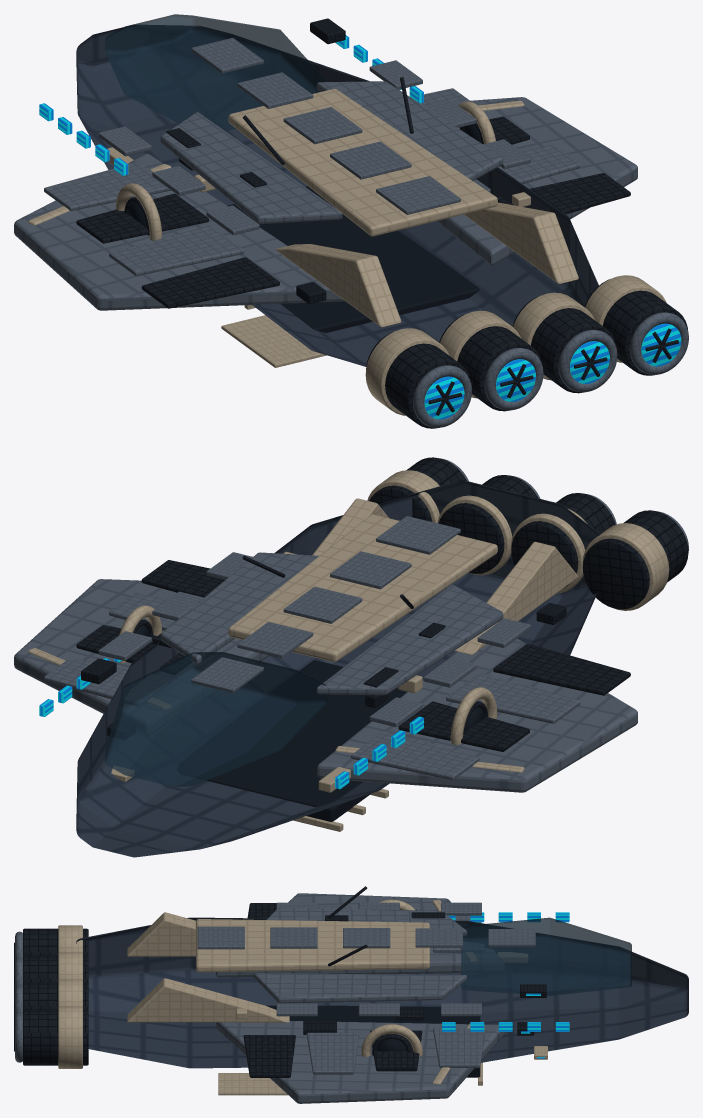
Rendered from aur-wayfarer-shuttle.glb.
3 views of the same model, one above another, from view 1: azimuth 30°, elevation 25°; view 2: azimuth 150°, elevation 25°; view 3: azimuth 270°, elevation 25° (orthographic). The views are drawn at different scales.
Visible parts, largest first — view 1: Pressure_Hull, Cockpit_Canopy, Dorsal_Armor, Wing_L, Cargo_Bay, Shoulder_Armor_L, Wing_R, Shoulder_Armor_R, Tail_Fin_L, Tail_Fin_R, Wing_Service_Panel_L_01, Wing_Service_Panel_L_02 (+36 smaller); view 2: Pressure_Hull, Cockpit_Canopy, Cargo_Bay, Wing_L, Dorsal_Armor, Wing_R, Shoulder_Armor_L, Shoulder_Armor_R, Engine_1, Tail_Fin_L, Wing_Service_Panel_L_01, Wing_Service_Panel_L_02 (+28 smaller); view 3: Pressure_Hull, Cockpit_Canopy, Wing_R, Dorsal_Armor, Shoulder_Armor_R, Tail_Fin_R, Wing_L, Engine_4, Tail_Fin_L, Shoulder_Armor_L, Wing_Service_Panel_R_01, Wing_Service_Panel_R_02 (+27 smaller).
Boxes of the visible parts, x1,y1,x2,y2 form: Pressure_Hull: (76, 25, 598, 366); Cockpit_Canopy: (105, 14, 326, 131); Dorsal_Armor: (228, 88, 497, 236); Wing_L: (14, 153, 344, 310); Cargo_Bay: (227, 186, 479, 332); Shoulder_Armor_L: (160, 112, 342, 223); Wing_R: (436, 97, 637, 265); Shoulder_Armor_R: (316, 81, 503, 180); Tail_Fin_L: (275, 244, 401, 327); Tail_Fin_R: (464, 202, 578, 283); Wing_Service_Panel_L_01: (141, 257, 279, 308); Wing_Service_Panel_L_02: (109, 225, 244, 275); Pressure_Hull: (76, 480, 600, 857); Cockpit_Canopy: (105, 652, 327, 787); Cargo_Bay: (177, 660, 407, 821); Wing_L: (317, 638, 637, 792); Dorsal_Armor: (228, 514, 497, 661); Wing_R: (14, 579, 269, 735); Shoulder_Armor_L: (316, 584, 503, 695); Shoulder_Armor_R: (160, 552, 318, 664); Engine_1: (582, 510, 688, 609); Tail_Fin_L: (454, 541, 578, 654); Wing_Service_Panel_L_01: (493, 643, 630, 695); Wing_Service_Panel_L_02: (446, 672, 580, 723); Pressure_Hull: (76, 917, 688, 1068); Cockpit_Canopy: (461, 917, 631, 995); Wing_R: (216, 1021, 504, 1103); Dorsal_Armor: (196, 919, 429, 972); Shoulder_Armor_R: (253, 973, 466, 1003); Tail_Fin_R: (127, 978, 289, 1022); Wing_L: (216, 893, 504, 977); Engine_4: (23, 1009, 88, 1065); Tail_Fin_L: (127, 912, 195, 956); Shoulder_Armor_L: (266, 907, 466, 935); Wing_Service_Panel_R_01: (243, 1035, 295, 1077); Wing_Service_Panel_R_02: (306, 1032, 358, 1074).
Bounding box in the file's own units: 26.37 × 8.29 × 37.38.
Materials: 7 (5 with a texture image).
